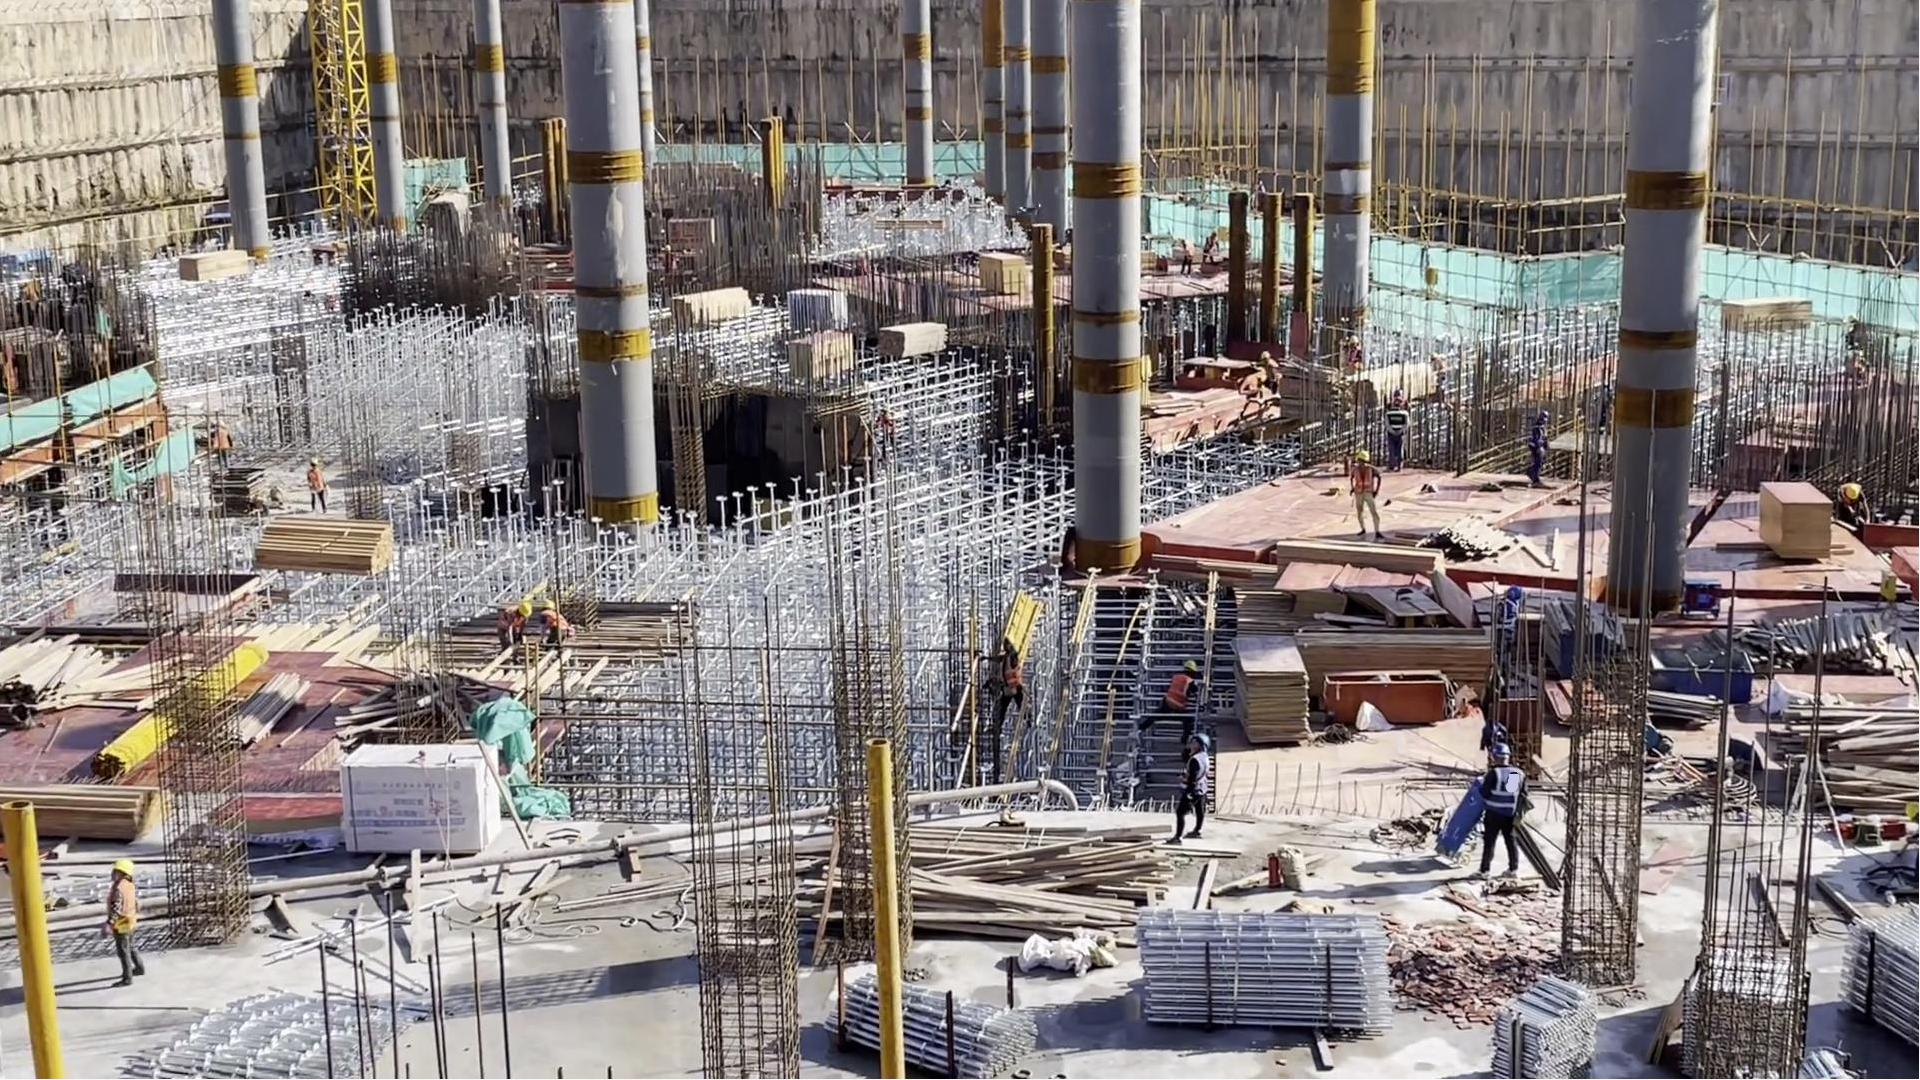board: (1229, 637, 1306, 748), (1759, 477, 1833, 569), (1275, 564, 1344, 625), (784, 337, 857, 391), (978, 253, 1026, 301)
cutter: (1367, 579, 1442, 642), (1172, 345, 1250, 396)
ebox: (1423, 260, 1439, 294)
helmet: (1489, 743, 1513, 765), (113, 856, 136, 875), (1193, 732, 1211, 749), (517, 602, 534, 618), (1506, 585, 1522, 602), (1354, 450, 1373, 464), (1844, 485, 1858, 501), (1356, 449, 1372, 462), (1184, 658, 1198, 673), (538, 600, 555, 610), (1538, 410, 1549, 422), (1004, 635, 1017, 646)
hopper: (1647, 645, 1749, 709)
person: (1481, 744, 1526, 880), (1163, 731, 1211, 846), (985, 626, 1035, 734), (106, 851, 144, 987), (1134, 656, 1199, 734), (1486, 583, 1523, 671), (1352, 448, 1382, 541), (1383, 398, 1411, 473), (1524, 410, 1551, 488), (1833, 480, 1872, 529), (538, 598, 577, 646), (495, 602, 531, 652), (304, 456, 330, 522), (223, 414, 246, 463), (1262, 348, 1284, 391), (1200, 229, 1221, 271), (1178, 236, 1195, 282)
scaffold: (1130, 909, 1394, 1039), (114, 977, 377, 1080), (803, 995, 1014, 1080), (1487, 973, 1619, 1080), (1842, 898, 1920, 1063)
vest: (1485, 767, 1526, 817), (101, 880, 135, 936), (1495, 598, 1520, 645), (1185, 752, 1210, 796), (541, 610, 576, 638), (999, 655, 1027, 689), (1167, 674, 1192, 710), (498, 608, 522, 638), (1386, 408, 1408, 437), (1352, 466, 1372, 496), (1530, 425, 1546, 456), (307, 469, 325, 493)
wood: (899, 813, 1158, 955), (1765, 693, 1920, 839), (1764, 605, 1920, 678), (1, 778, 164, 847), (251, 518, 397, 582), (1422, 513, 1569, 573), (1723, 290, 1818, 337), (1350, 357, 1439, 405), (670, 287, 752, 329), (877, 320, 953, 356), (176, 249, 245, 286)
